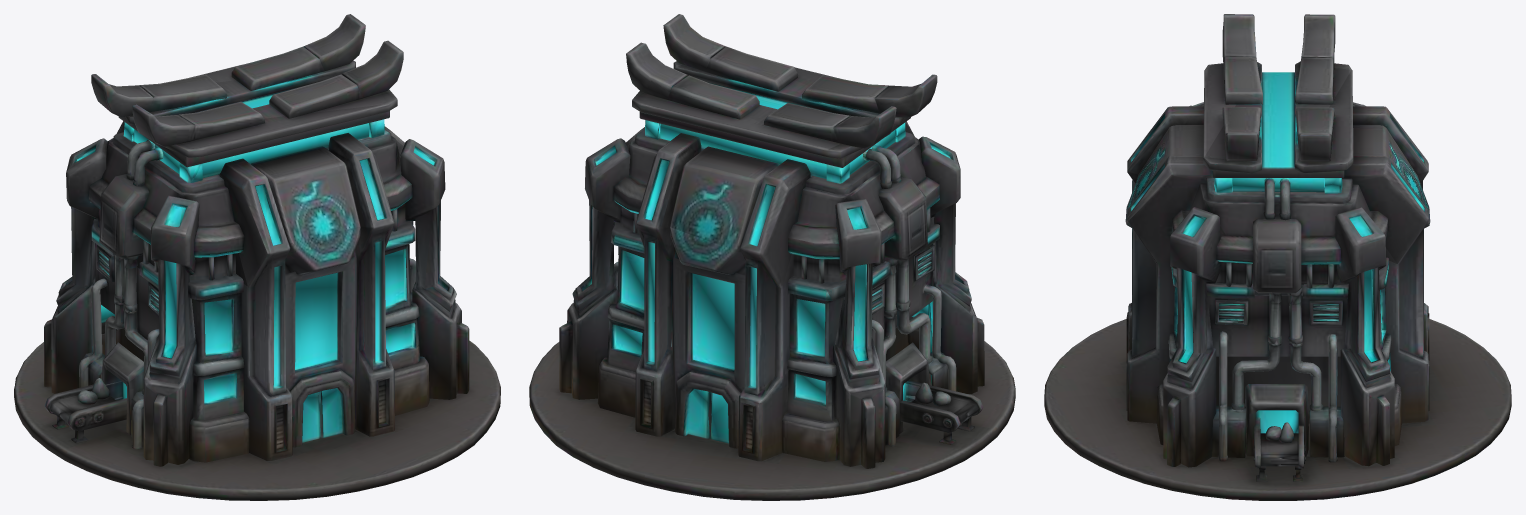
The model's file is hub_refinery.glb.
3 renders of one model, left to right at view 1: azimuth 30°, elevation 25°; view 2: azimuth 150°, elevation 25°; view 3: azimuth 270°, elevation 25°, orthographic. The views are drawn at different scales.
Visible parts, largest first — view 1: Body, Trim; view 2: Body, Trim; view 3: Body, Trim.
Part boxes in pixels (<box>): Body: <box>14,14,500,500</box>; Trim: <box>66,66,438,442</box>; Body: <box>529,14,1015,500</box>; Trim: <box>591,64,962,443</box>; Body: <box>1044,14,1511,500</box>; Trim: <box>1131,64,1425,433</box>.
Size of the model in its own units: 13.79 by 10.55 by 13.79.
Materials: 2 (2 with a texture image).
